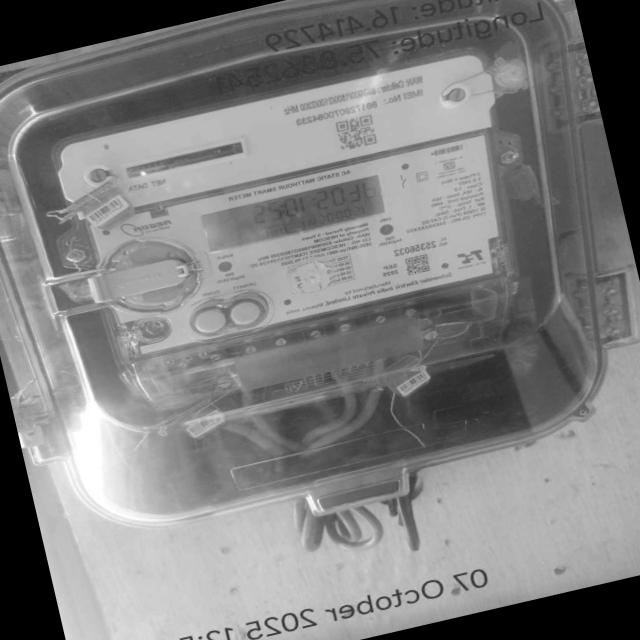meter: (58, 47, 532, 368)
